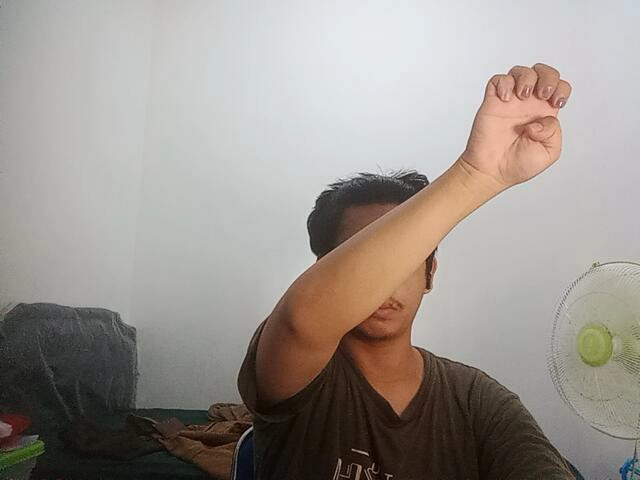E: (464, 56, 582, 194)
